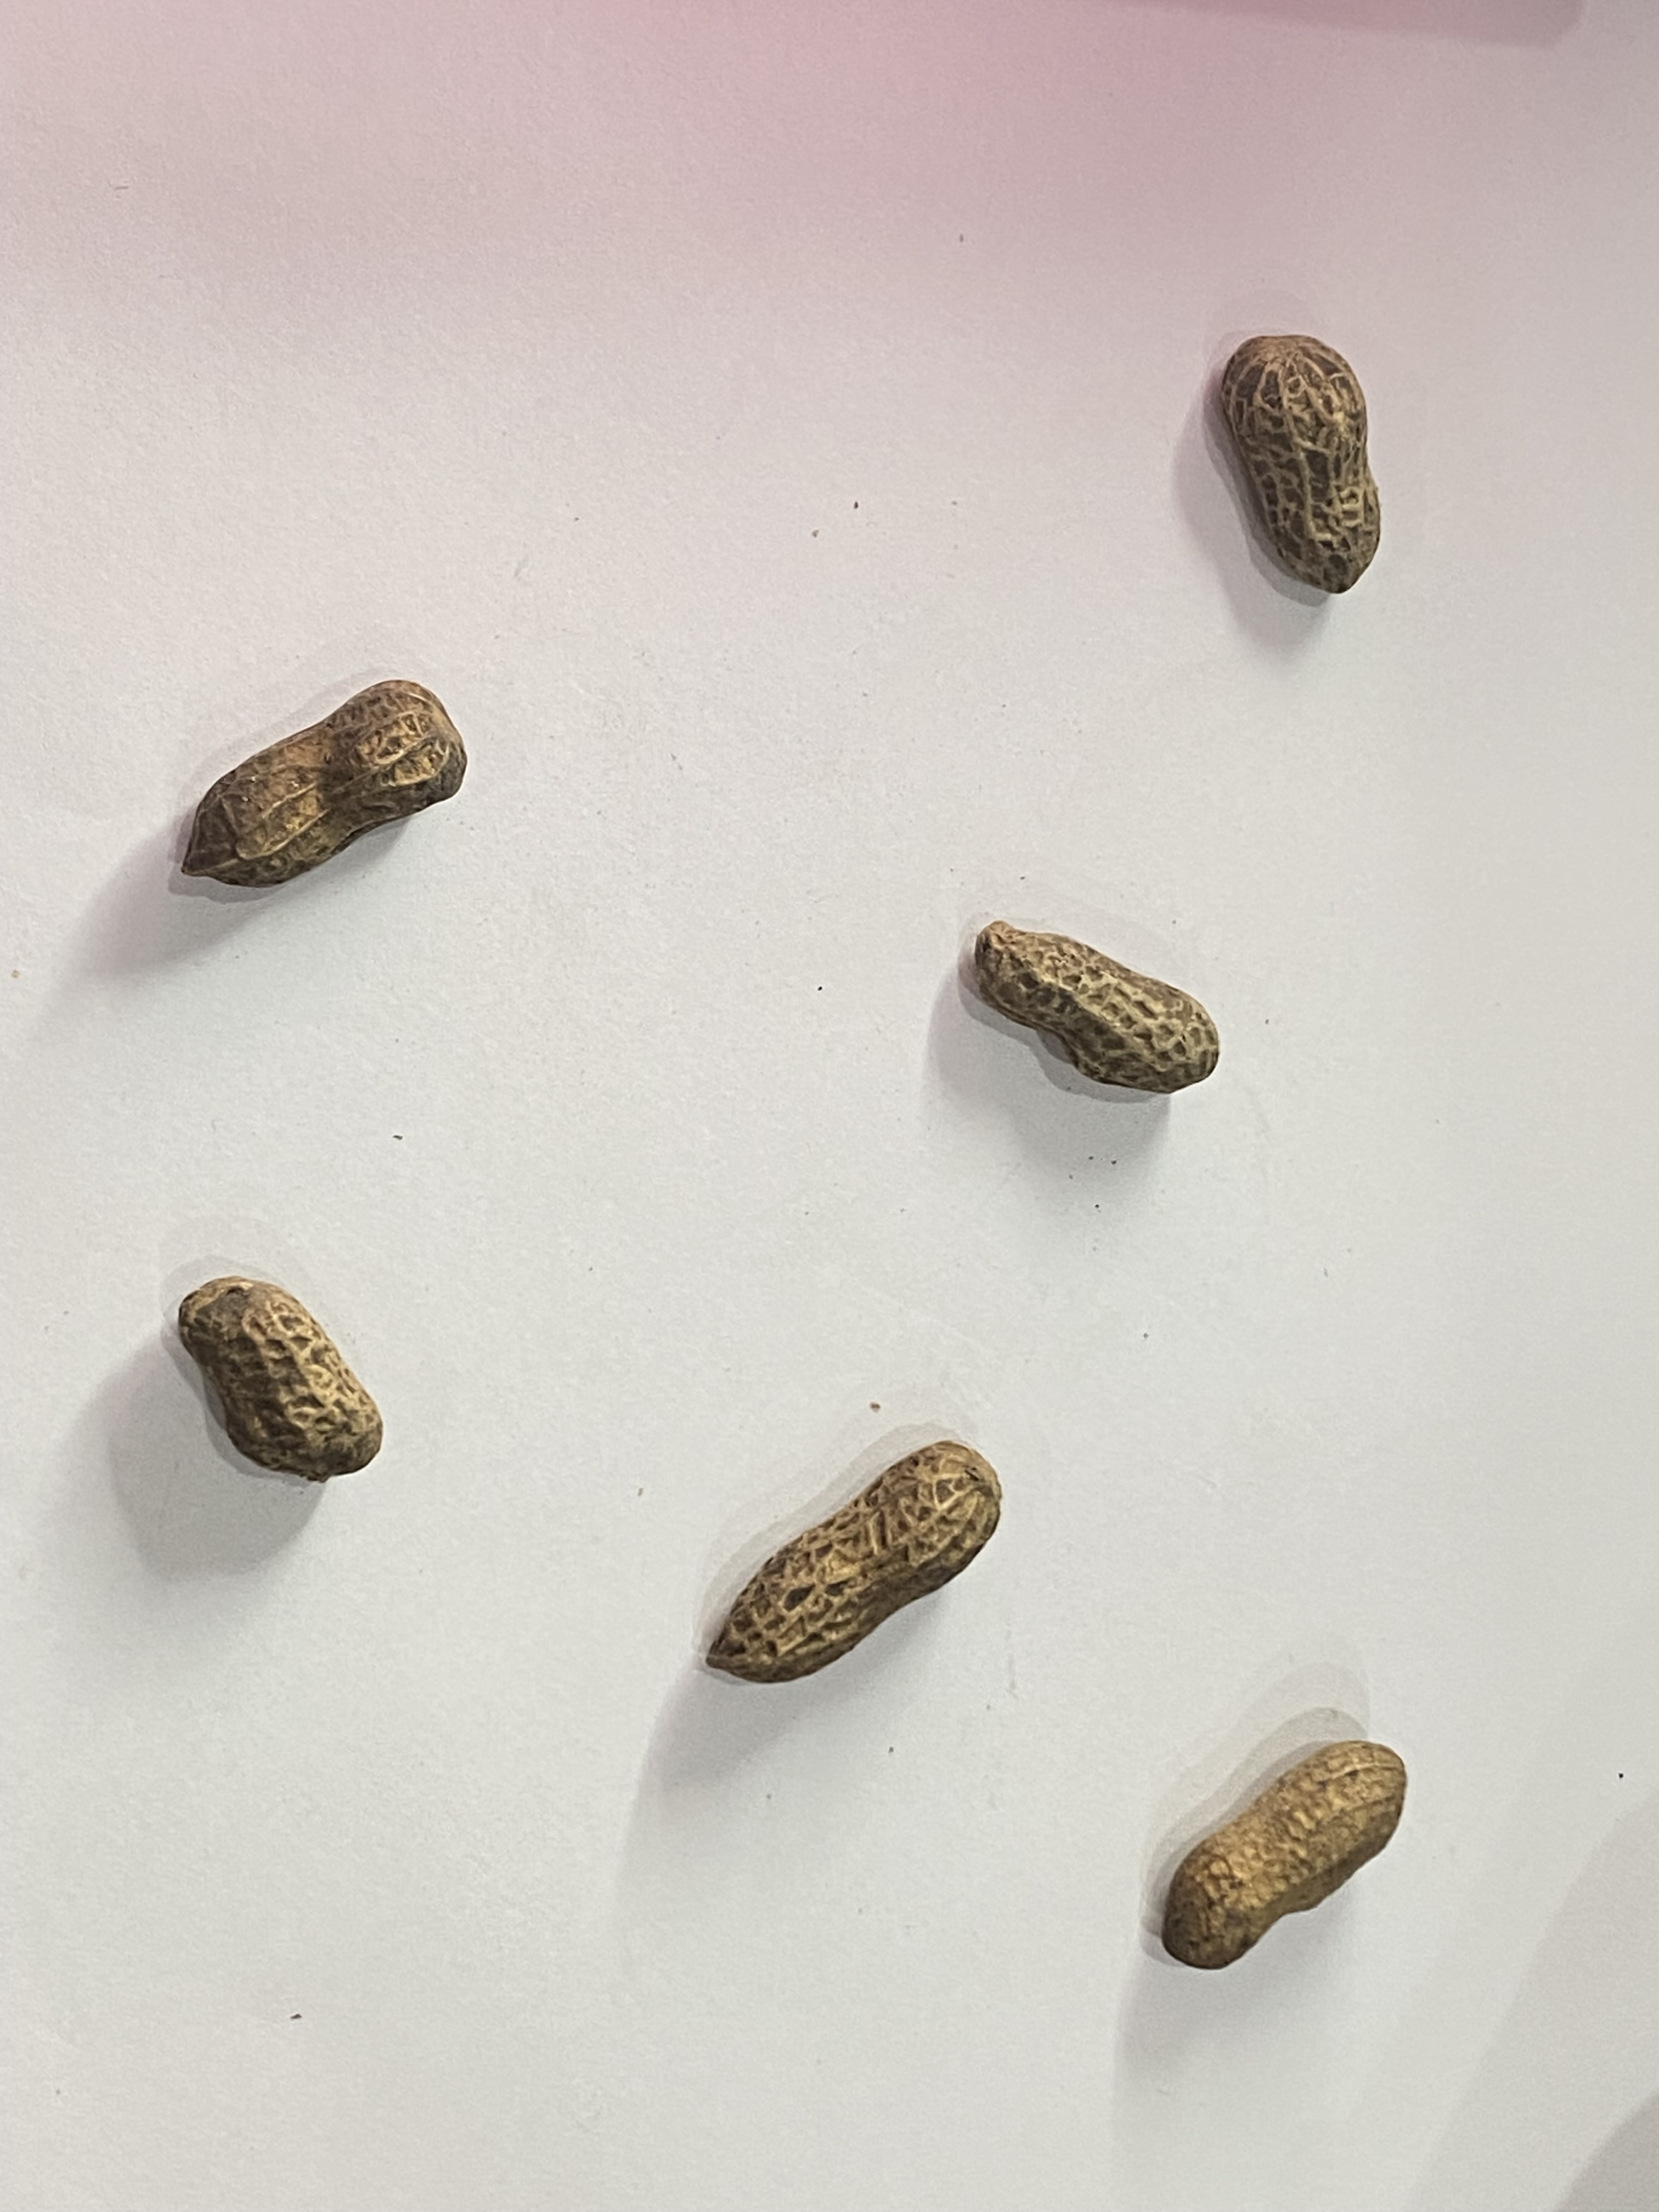kacang2: (673, 1407, 1073, 1730), (1091, 1719, 1462, 2008), (906, 880, 1279, 1153), (141, 660, 484, 914), (1204, 284, 1434, 615), (113, 1258, 410, 1493)
